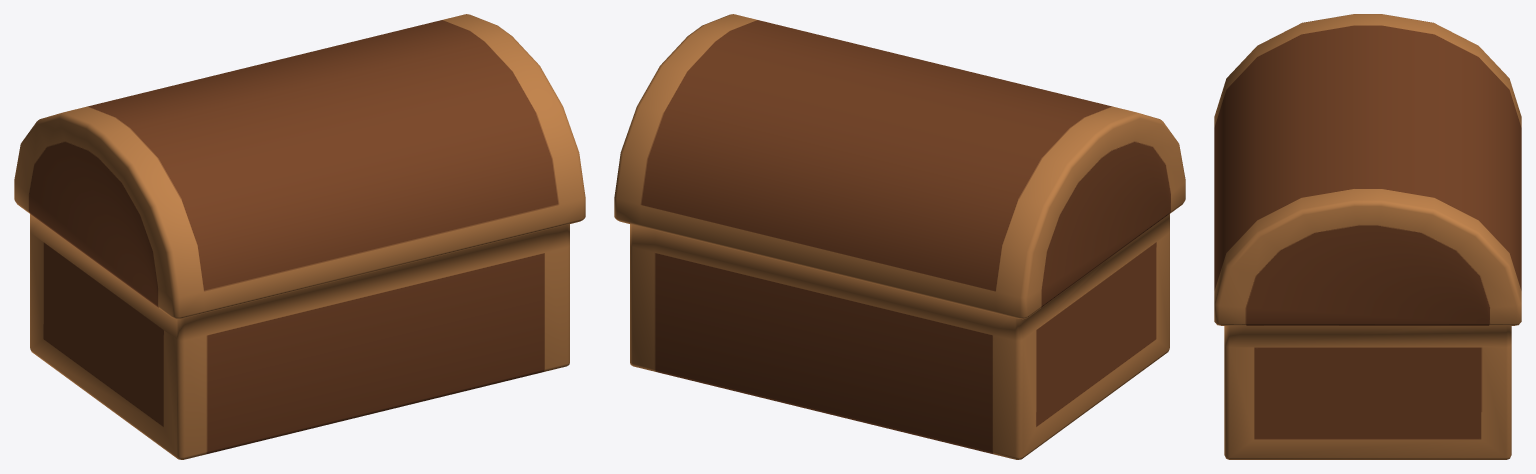
File: Treasure chest.fbx
3 renders of one model, left to right at view 1: azimuth 30°, elevation 25°; view 2: azimuth 150°, elevation 25°; view 3: azimuth 270°, elevation 25°, orthographic. The views are drawn at different scales.
Parts seen in each view (by area): view 1: Treasure chest; view 2: Treasure chest; view 3: Treasure chest.
Boxes of the visible parts, x1,y1,x2,y2 form: Treasure chest: (14,14,585,459); Treasure chest: (614,14,1185,459); Treasure chest: (1214,14,1521,459).
Size of the model in its own units: 82.6 by 53.52 by 56.45.
